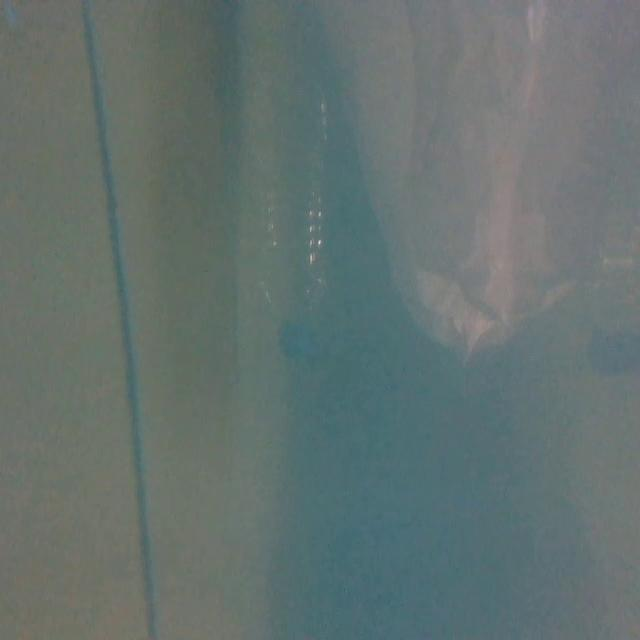plastic bags: (356, 0, 640, 352)
plastic bottle: (262, 76, 333, 368)
